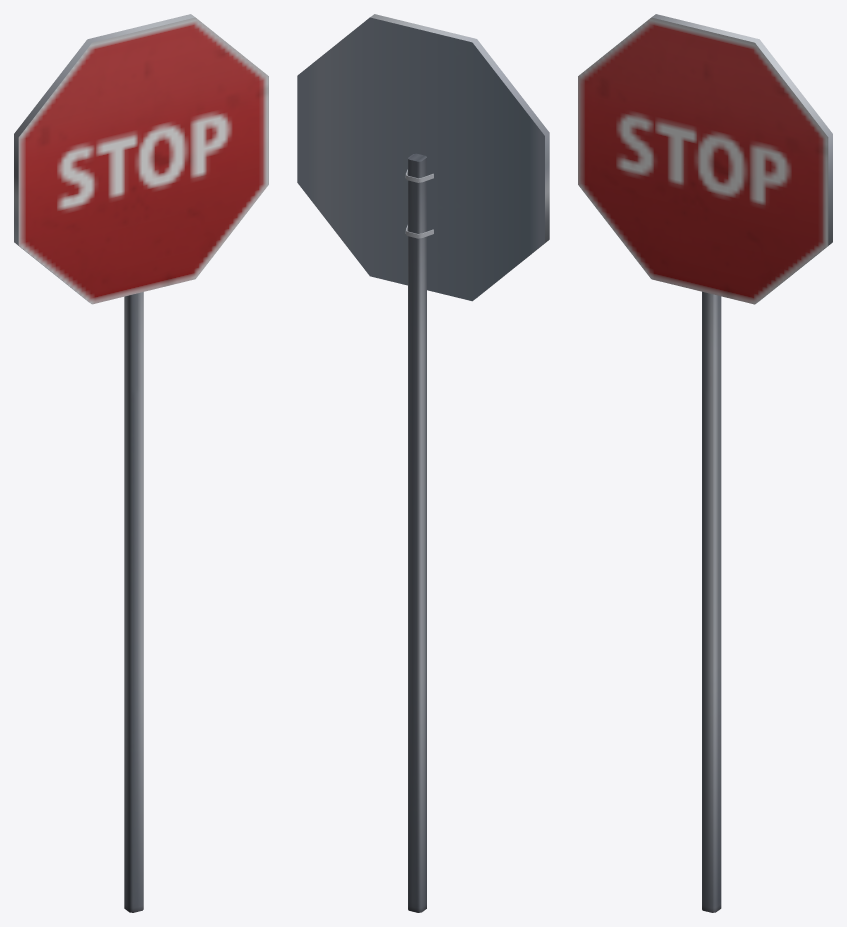
Rendered from Sign_01.fbx.
3 renders of one model, left to right at view 1: azimuth 30°, elevation 25°; view 2: azimuth 150°, elevation 25°; view 3: azimuth 330°, elevation 25°, orthographic.
Parts seen in each view (by area): view 1: road_sign_1_Mesh; view 2: road_sign_1_Mesh; view 3: road_sign_1_Mesh.
Part boxes in pixels (bbox=[...]): road_sign_1_Mesh: bbox=[14, 14, 268, 912]; road_sign_1_Mesh: bbox=[297, 14, 549, 912]; road_sign_1_Mesh: bbox=[578, 14, 832, 912].
Size of the model in its own units: 77.08 by 261 by 7.24.
